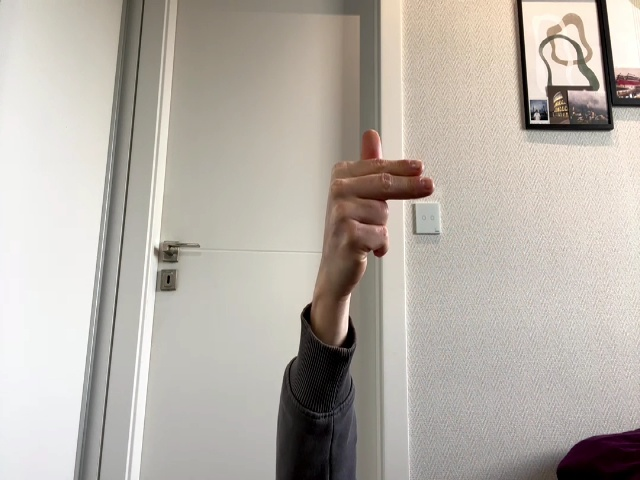N: (323, 130, 434, 273)
